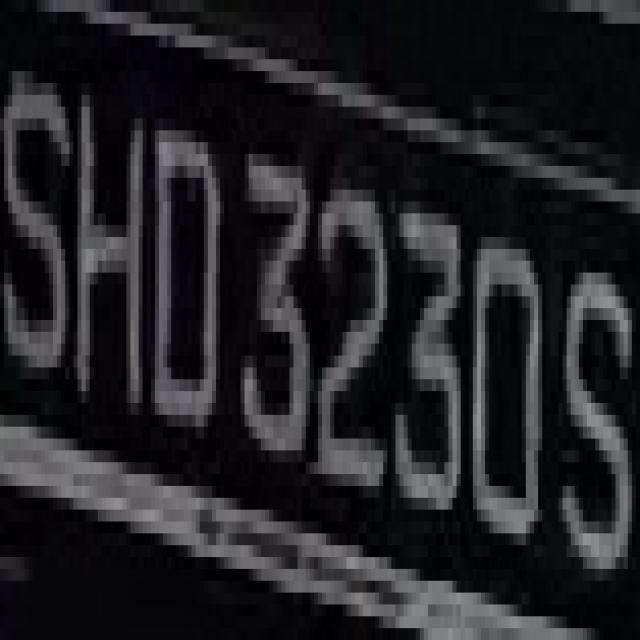0: (469, 190, 554, 569)
2: (306, 131, 387, 534)
3: (232, 95, 318, 498), (387, 154, 465, 557)
D: (151, 71, 232, 474)
H: (61, 59, 151, 450)
S: (558, 213, 632, 593), (4, 24, 73, 426)
